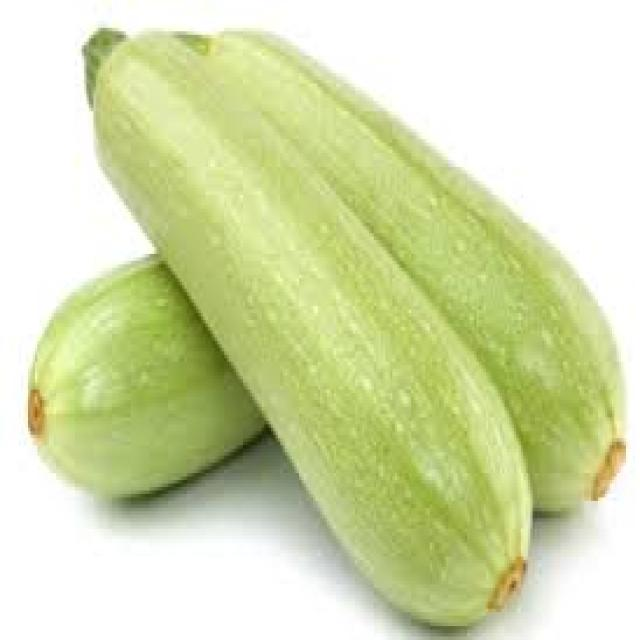vegetable marrow: (76, 19, 539, 640), (184, 0, 640, 497), (17, 245, 270, 516)
